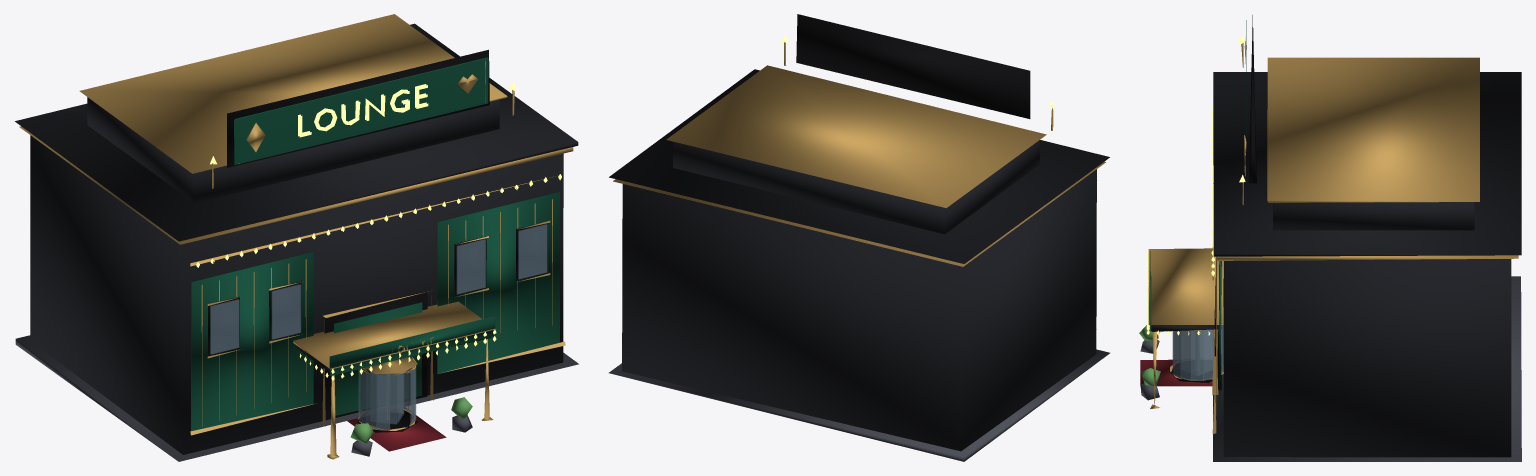
File: lod_casino_building.glb
3 renders of one model, left to right at view 1: azimuth 30°, elevation 25°; view 2: azimuth 150°, elevation 25°; view 3: azimuth 270°, elevation 25°, orthographic. The views are drawn at different scales.
Parts seen in each view (by area): view 1: casino_building; view 2: casino_building; view 3: casino_building.
Part boxes in pixels (bbox=[...]): casino_building: bbox=[15, 14, 578, 461]; casino_building: bbox=[609, 14, 1109, 461]; casino_building: bbox=[1139, 15, 1521, 461].
Bounding box in the file's own units: 20.81 × 15.88 × 18.36.
